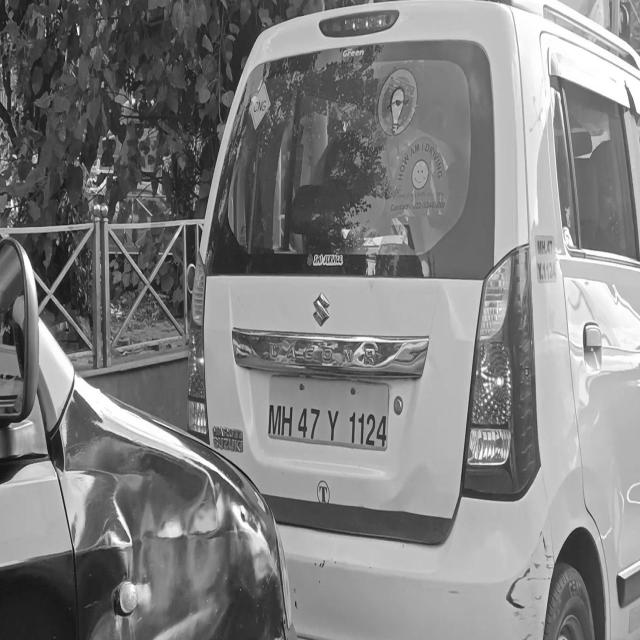car: (187, 10, 640, 640)
license-plate: (262, 375, 391, 456)
